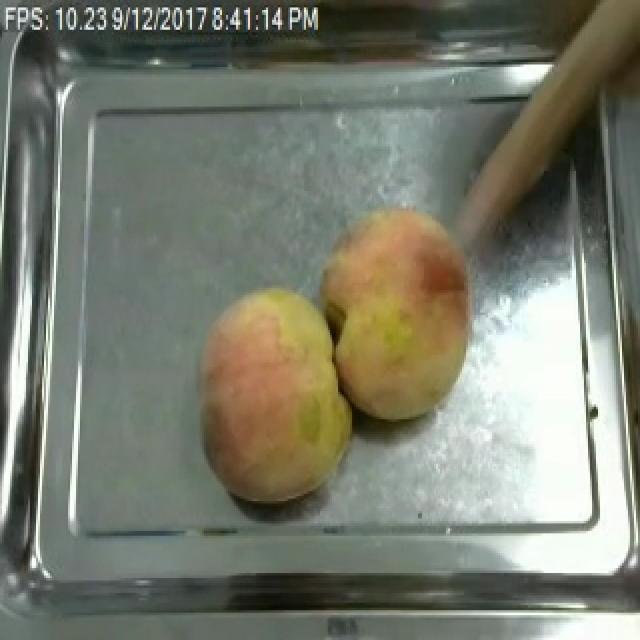Fruit: (316, 199, 484, 429), (190, 278, 358, 508)
